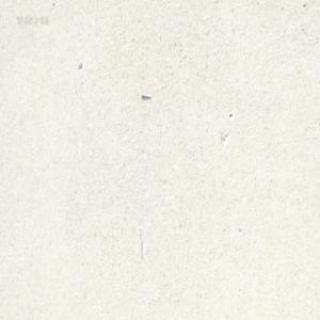Nailtrack_idkeyframe: (139, 92, 150, 98)
